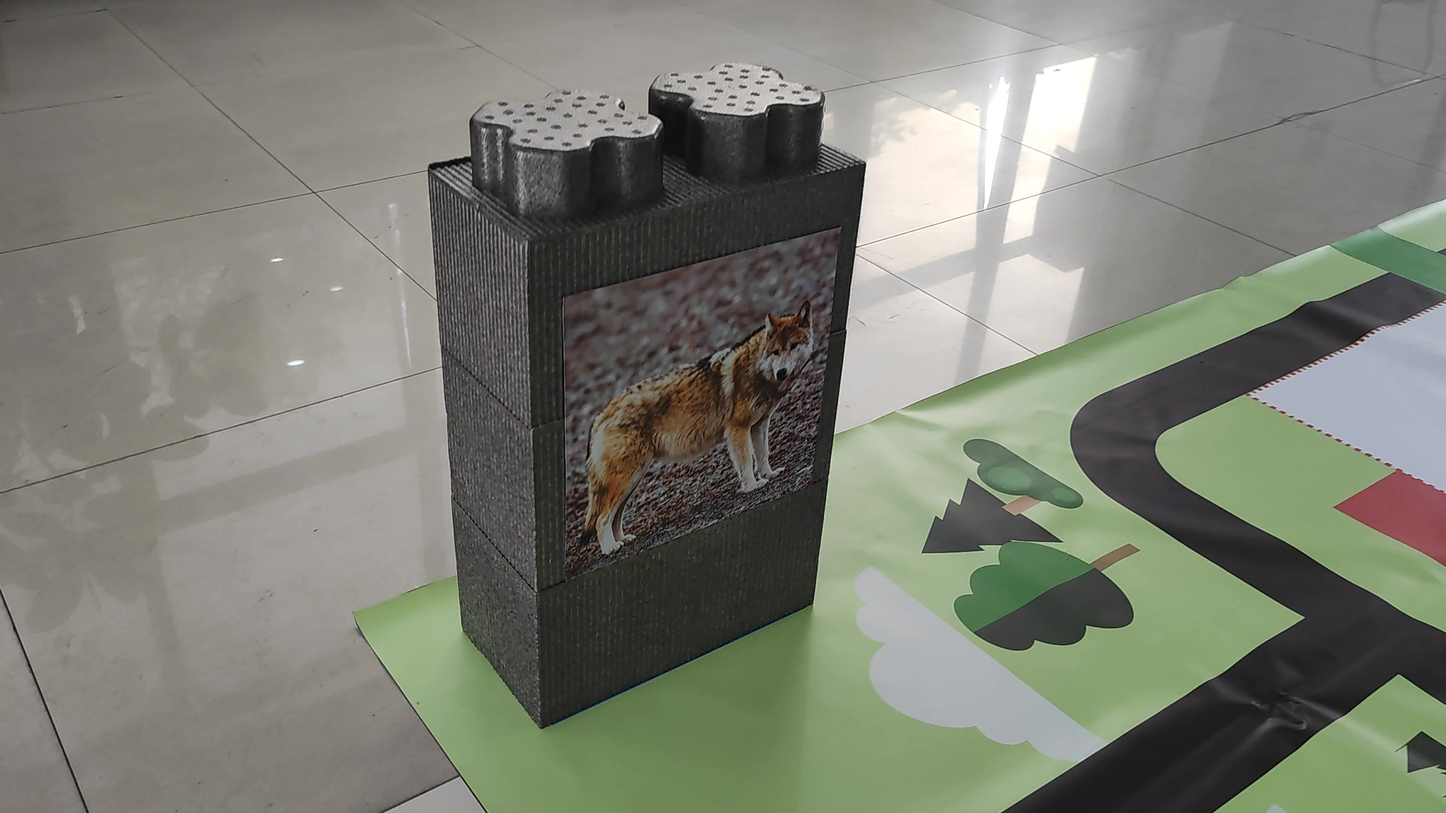wolf: (582, 292, 837, 535)
